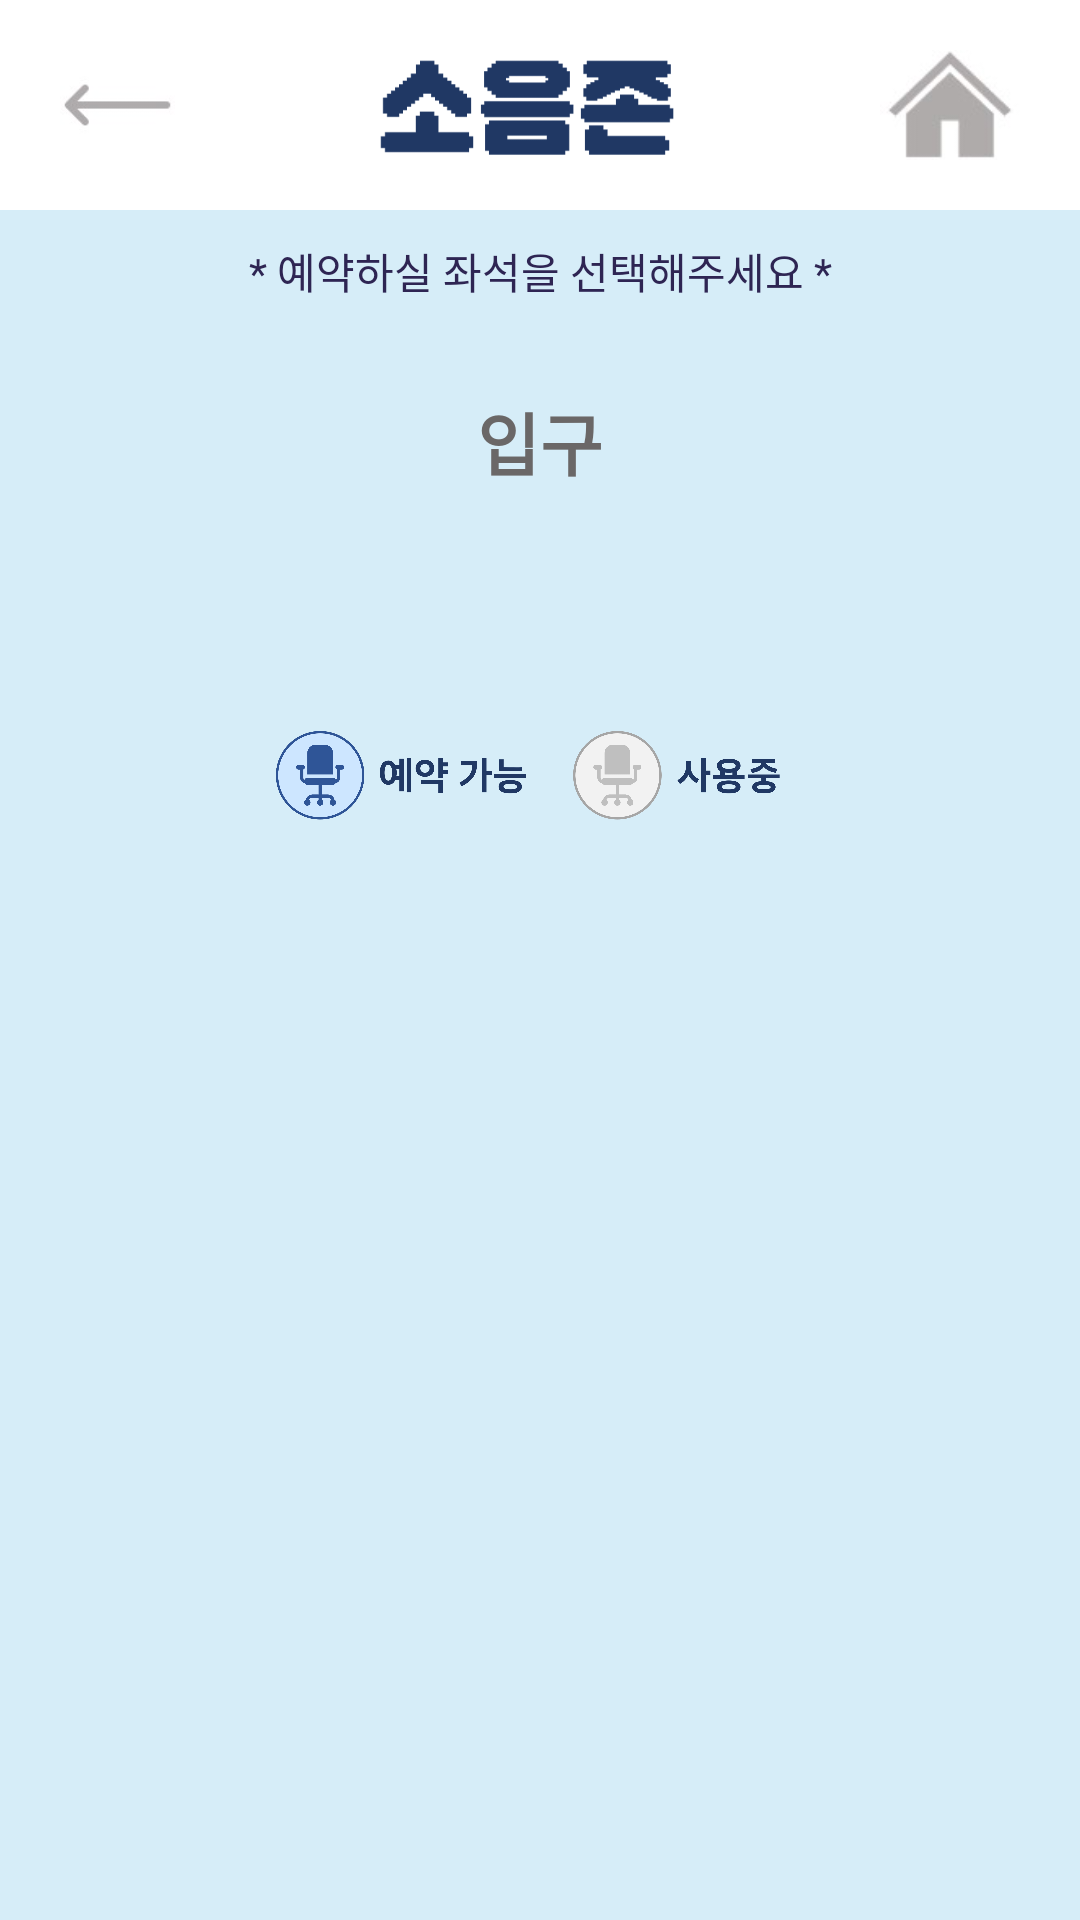

Where icons sit on this 1080px x 1920px app screen, as (x1, y1, x2, y2):
back: (65, 84, 170, 126)
home: (889, 52, 1011, 157)
